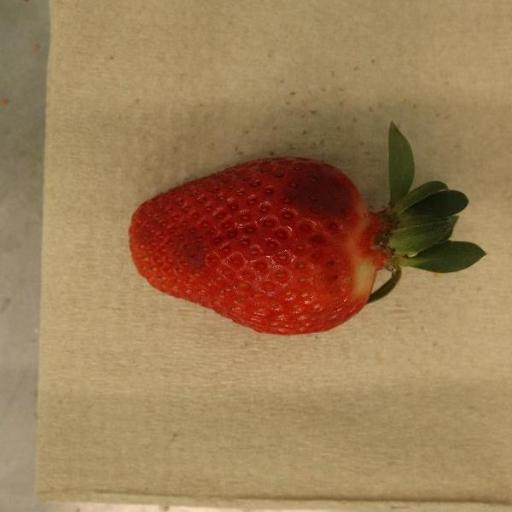Strawberry: (128, 125, 488, 336)
